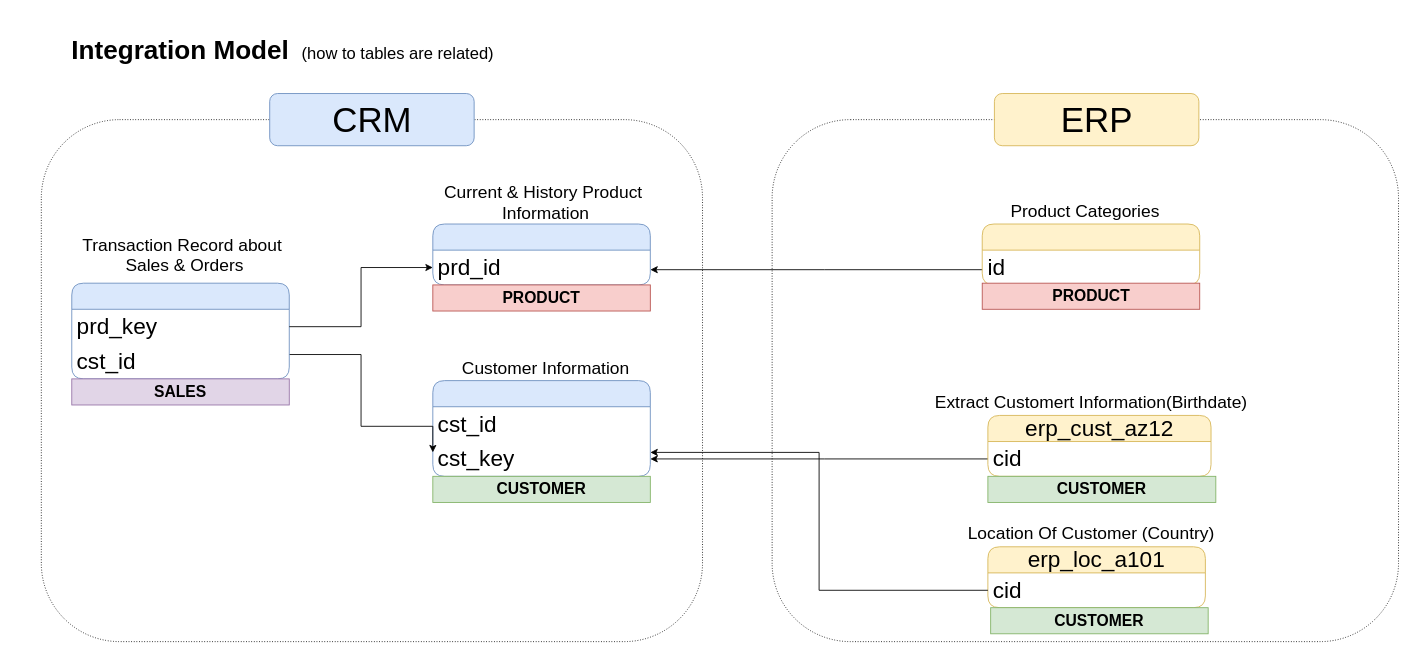
This 1414x657 diagram has some shape labels left out. The shapes that lost their labels are listed below. From the top down, each one's box as (x1, y1, x2, y2) in pixels, then its label:
(432, 223, 650, 285): crm_prd_info
(981, 223, 1200, 285): erp_px_cat_g1v2
(71, 282, 289, 379): crm_sales_details
(432, 380, 650, 476): crm_cust_info
